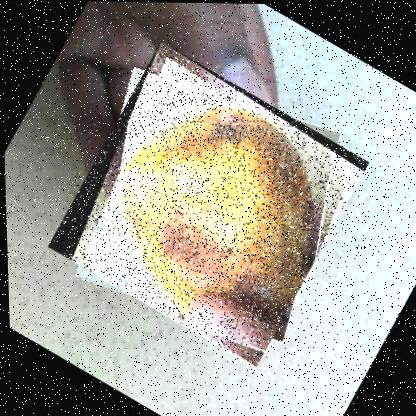guava_rotten: (41, 40, 374, 370)
